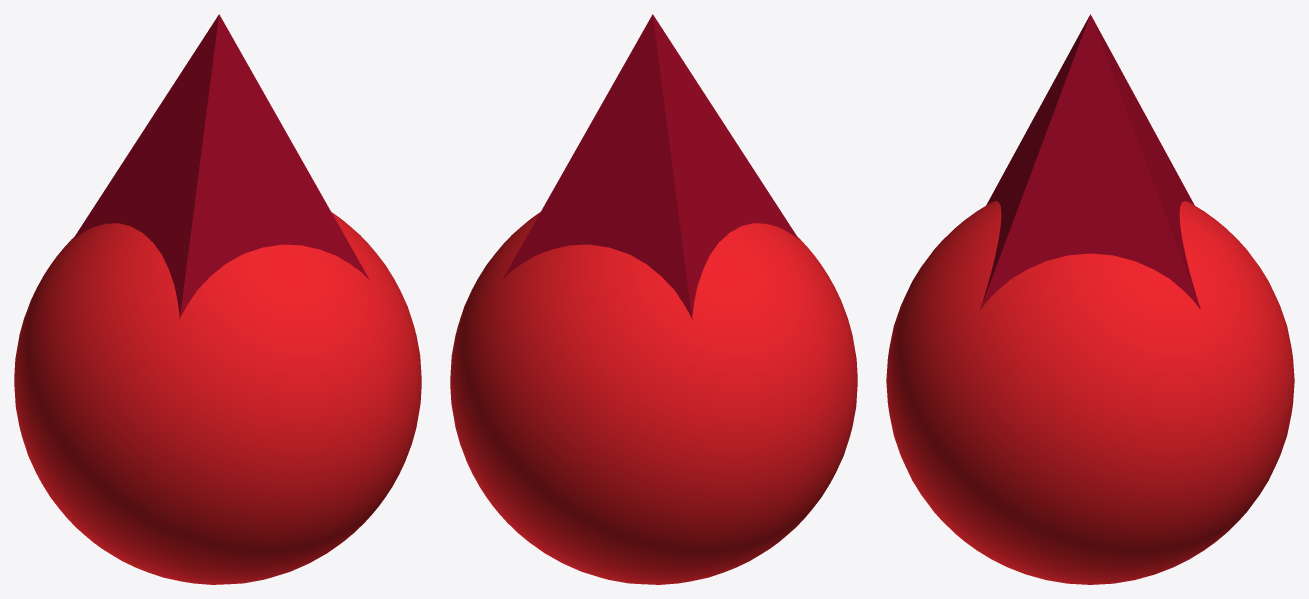
Rendered from Soul_Bind.fbx.
The picture shows the model from 3 angles, left to right: view 1: azimuth 30°, elevation 25°; view 2: azimuth 150°, elevation 25°; view 3: azimuth 270°, elevation 25°; orthographic projection.
Parts seen in each view (by area): view 1: root (×2); view 2: root (×2); view 3: root (×2).
Part boxes in pixels (left/top/right/bottom): root (×2): left=14, top=14, right=421, bottom=584; root (×2): left=450, top=14, right=857, bottom=584; root (×2): left=886, top=14, right=1294, bottom=584.
Bounding box in the file's own units: 0.135 × 0.2015 × 0.135.
